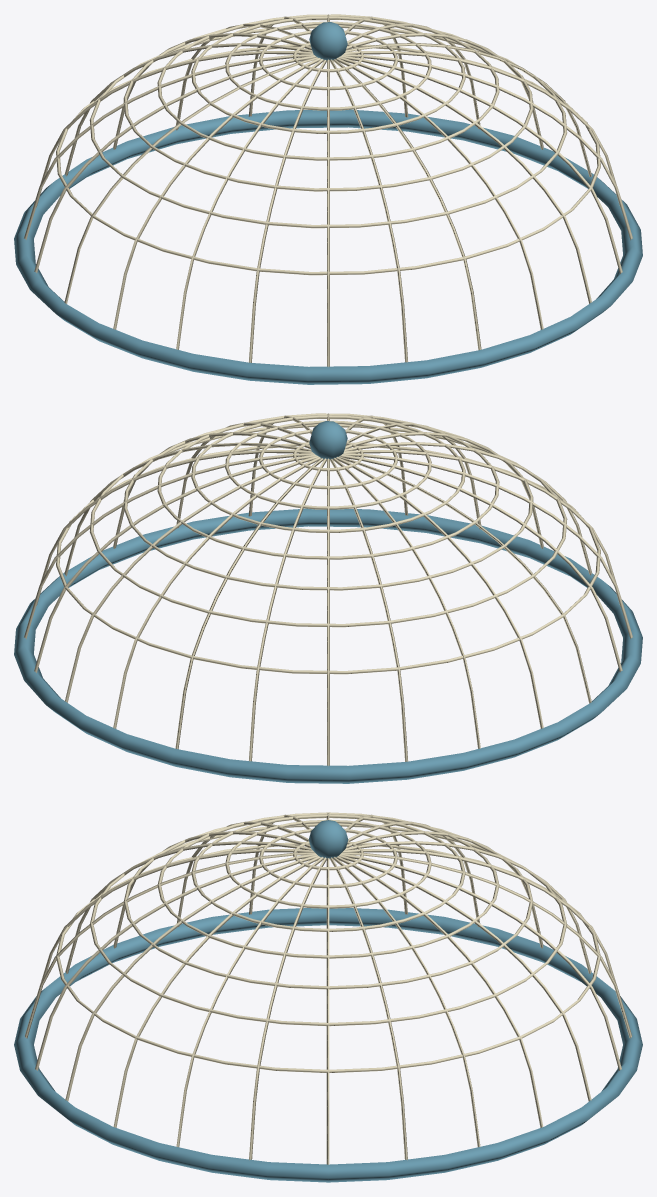
File: foodCover.glb
3 renders of one model, top to bottom at view 1: azimuth 30°, elevation 25°; view 2: azimuth 150°, elevation 25°; view 3: azimuth 270°, elevation 25°, orthographic.
Parts seen in each view (by area): view 1: rim, mesh-rib (×20), mesh-hoop (×7), knob; view 2: rim, mesh-rib (×21), mesh-hoop (×7), knob; view 3: rim, mesh-rib (×21), mesh-hoop (×7), knob.
Boxes of the visible parts, <box> form: rim: <box>14,109,642,384</box>; mesh-rib (×20): <box>24,23,632,367</box>; mesh-hoop (×7): <box>56,14,600,275</box>; knob: <box>309,22,347,60</box>; rim: <box>14,508,642,783</box>; mesh-rib (×21): <box>24,422,632,766</box>; mesh-hoop (×7): <box>56,413,600,674</box>; knob: <box>309,421,347,459</box>; rim: <box>14,908,642,1182</box>; mesh-rib (×21): <box>25,821,631,1164</box>; mesh-hoop (×7): <box>56,812,600,1072</box>; knob: <box>308,820,348,858</box>.
Bounding box in the file's own units: 0.506 × 0.206 × 0.506.
